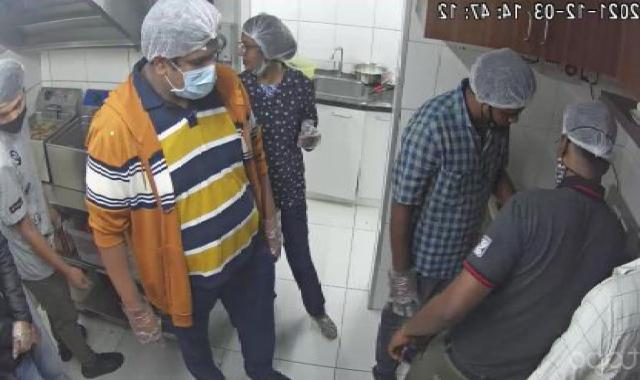hairnet: (132, 0, 234, 61), (463, 42, 549, 112), (232, 10, 318, 63), (566, 96, 634, 161), (1, 54, 32, 114)
